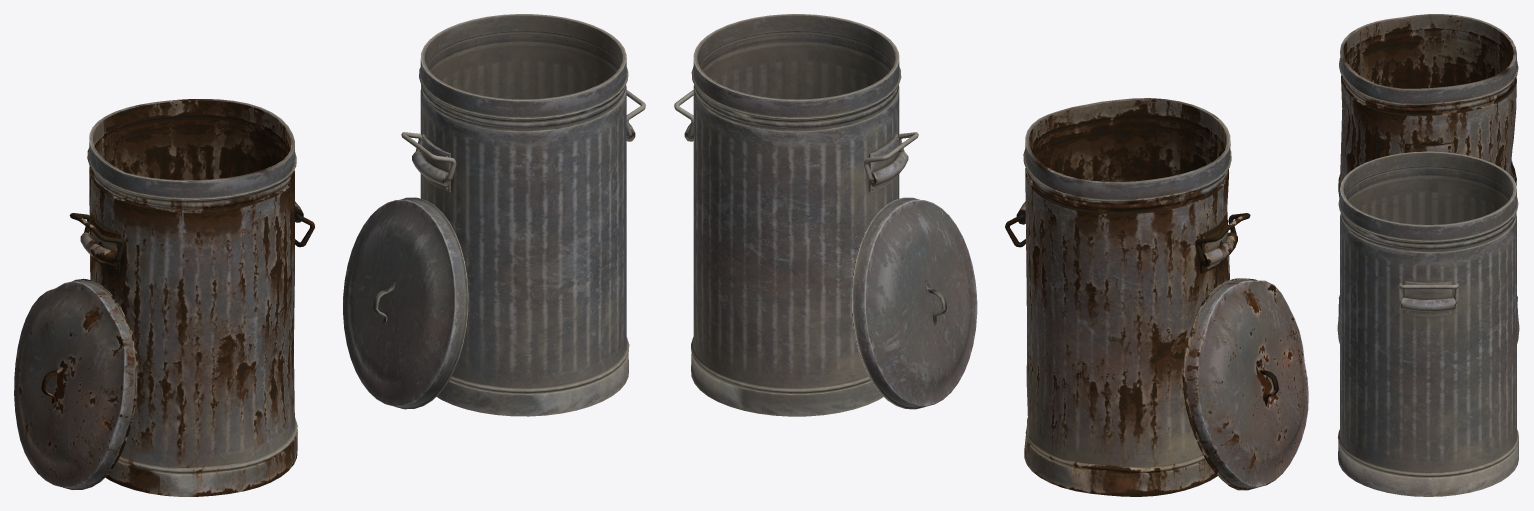
File: metal_trash_can.glb
3 views of the same model, side by side, from view 1: azimuth 30°, elevation 25°; view 2: azimuth 150°, elevation 25°; view 3: azimuth 270°, elevation 25° (orthographic). The views are drawn at different scales.
Parts seen in each view (by area): view 1: metal_trash_can, metal_trash_can_rust, metal_trash_can_lid, metal_trash_can_rust_lid; view 2: metal_trash_can, metal_trash_can_rust, metal_trash_can_lid, metal_trash_can_rust_lid; view 3: metal_trash_can, metal_trash_can_rust, metal_trash_can_handle_right.
Boxes of the visible parts, bbox=[...] form: metal_trash_can: bbox=[412, 14, 635, 416]; metal_trash_can_rust: bbox=[80, 99, 303, 496]; metal_trash_can_lid: bbox=[343, 197, 468, 409]; metal_trash_can_rust_lid: bbox=[14, 278, 137, 489]; metal_trash_can: bbox=[684, 14, 908, 416]; metal_trash_can_rust: bbox=[1016, 98, 1237, 496]; metal_trash_can_lid: bbox=[851, 197, 977, 409]; metal_trash_can_rust_lid: bbox=[1183, 278, 1308, 490]; metal_trash_can: bbox=[1337, 151, 1518, 496]; metal_trash_can_rust: bbox=[1338, 14, 1518, 317]; metal_trash_can_handle_right: bbox=[1398, 283, 1458, 303].
Size of the model in its own units: 1.78 by 0.9062 by 0.5543.
2 materials, 2 textured.
